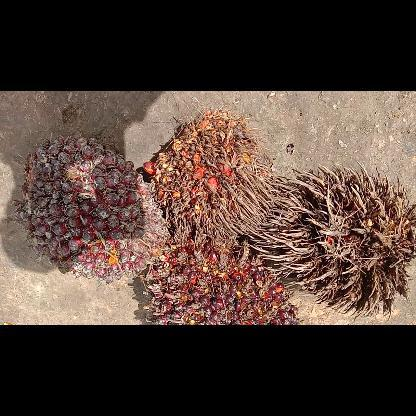Janjang kosong: (248, 161, 414, 319)
Kurang masak: (13, 131, 170, 285)
TBS masak: (140, 238, 304, 324)
Terlalu masak: (141, 105, 278, 243)
